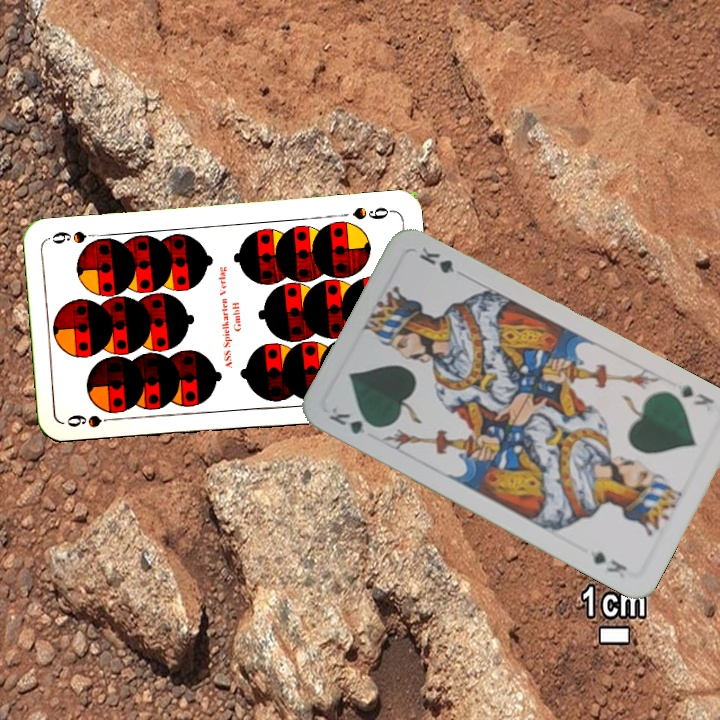GK: (324, 403, 382, 437), (673, 380, 717, 408)
S9: (62, 411, 121, 430), (348, 203, 396, 222)
